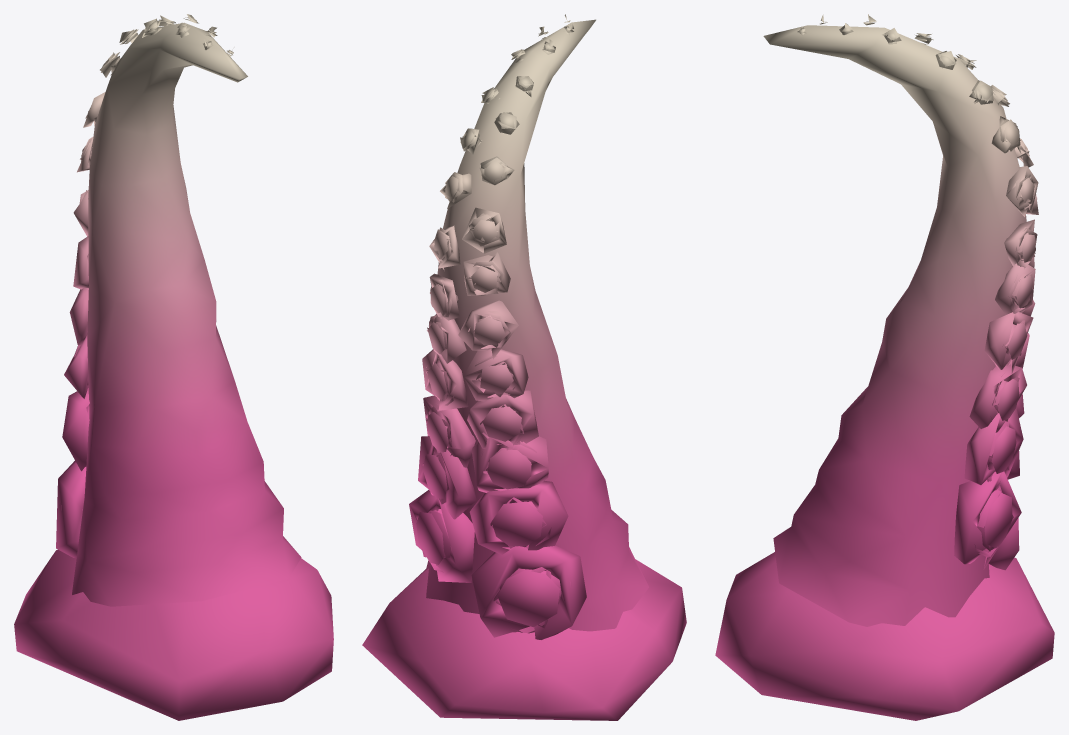
Rendered from chess-bishop-lod1.glb.
3 renders of one model, left to right at view 1: azimuth 30°, elevation 25°; view 2: azimuth 150°, elevation 25°; view 3: azimuth 270°, elevation 25°, orthographic. The views are drawn at different scales.
Visible parts, largest first — view 1: bishop; view 2: bishop; view 3: bishop.
Boxes of the visible parts, box(x1,y1,x2,y2) form: bishop: box(14, 14, 333, 720); bishop: box(362, 14, 686, 720); bishop: box(715, 14, 1054, 720).
Size of the model in its own units: 0.4536 by 1.01 by 0.4865.
